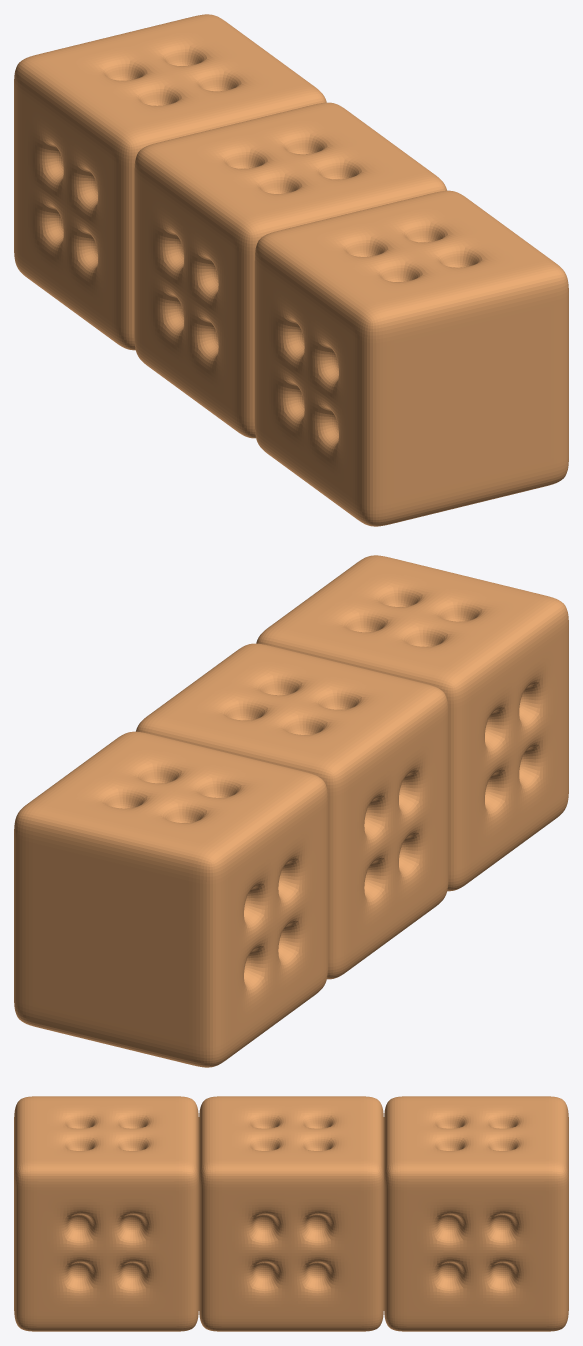
File: orange_1.3.1.fbx
3 renders of one model, top to bottom at view 1: azimuth 30°, elevation 25°; view 2: azimuth 150°, elevation 25°; view 3: azimuth 270°, elevation 25°, orthographic. The views are drawn at different scales.
Visible parts, largest first — view 1: Cube.003; view 2: Cube.003; view 3: Cube.003.
Boxes of the visible parts, x1,y1,x2,y2 form: Cube.003: [14, 14, 568, 526]; Cube.003: [14, 555, 568, 1067]; Cube.003: [14, 1096, 568, 1331].
Size of the model in its own units: 100 by 100 by 300.
